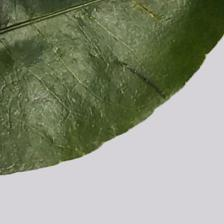healthy: (3, 0, 150, 137)
